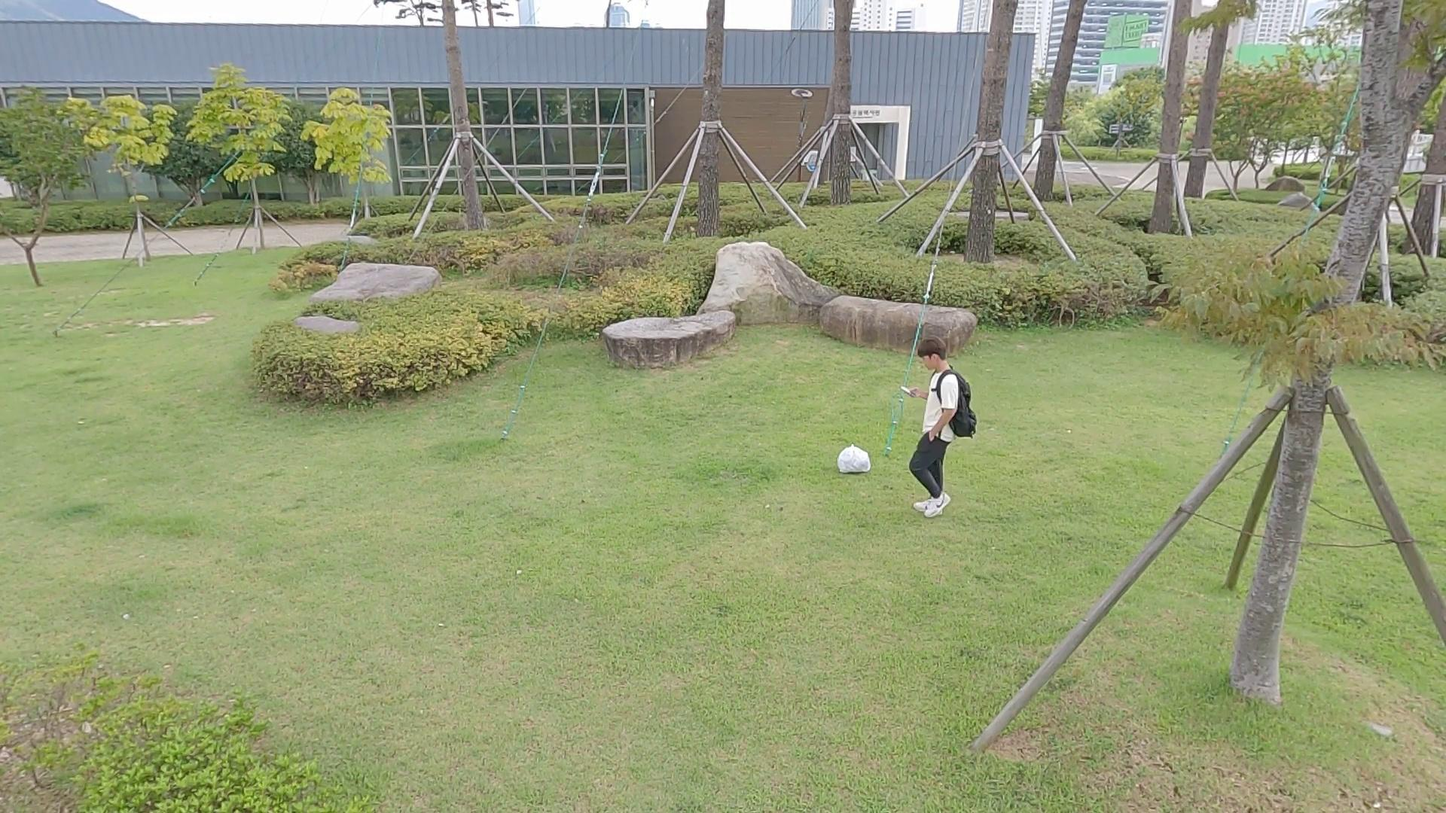person: (895, 334, 986, 519)
trash: (830, 439, 880, 475)
